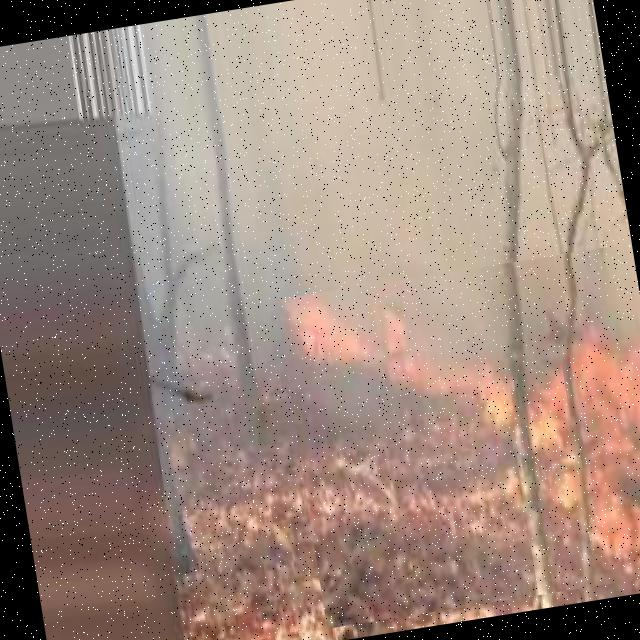fire: (275, 244, 640, 629)
